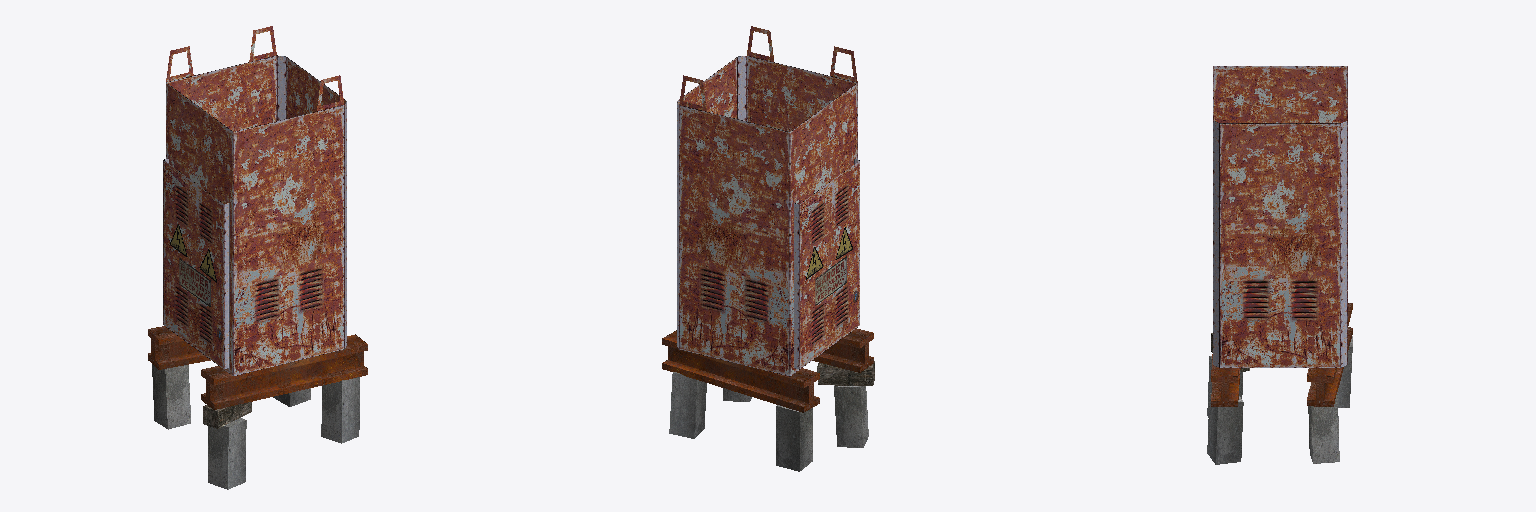
3 views of the same model, side by side, from view 1: azimuth 30°, elevation 25°; view 2: azimuth 150°, elevation 25°; view 3: azimuth 270°, elevation 25° (orthographic).
Parts seen in each view (by area): view 1: Electric01; view 2: Electric01; view 3: Electric01.
Boxes of the visible parts, x1=… form: Electric01: x1=148, y1=26, x2=367, y2=489; Electric01: x1=662, y1=26, x2=874, y2=471; Electric01: x1=1207, y1=66, x2=1352, y2=464.
Size of the model in its own units: 2.71 by 6.31 by 2.16.
1 materials, 1 textured.